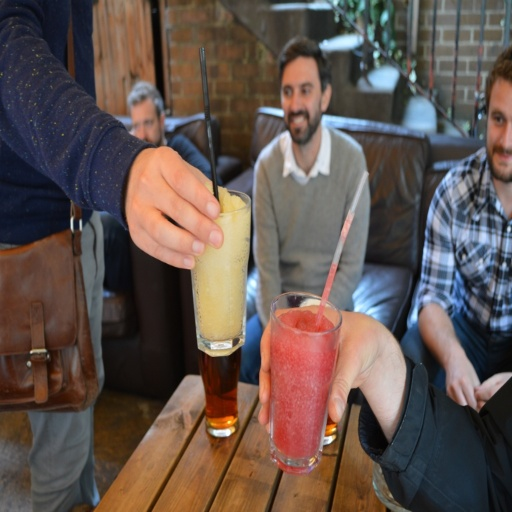hand: (258, 302, 385, 437), (131, 125, 240, 266), (444, 357, 480, 411), (472, 371, 511, 415)
